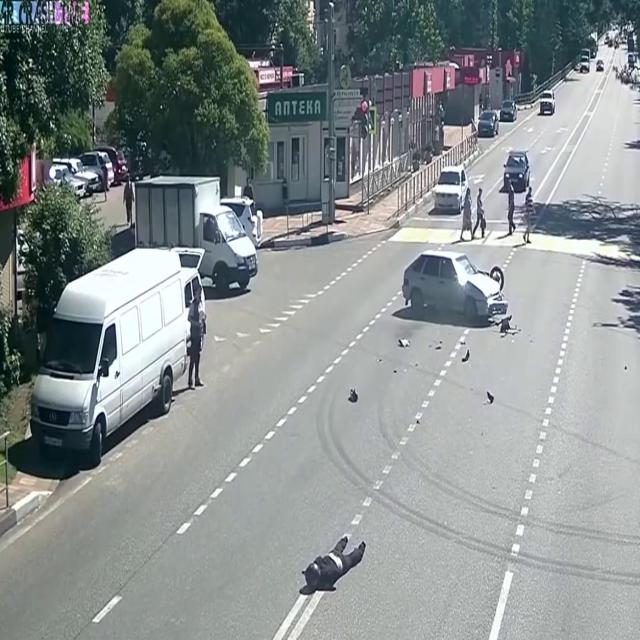accident: (389, 242, 523, 410), (279, 514, 381, 614)
non_accident: (24, 166, 268, 478), (431, 157, 490, 247), (500, 143, 540, 247), (476, 95, 520, 141)
